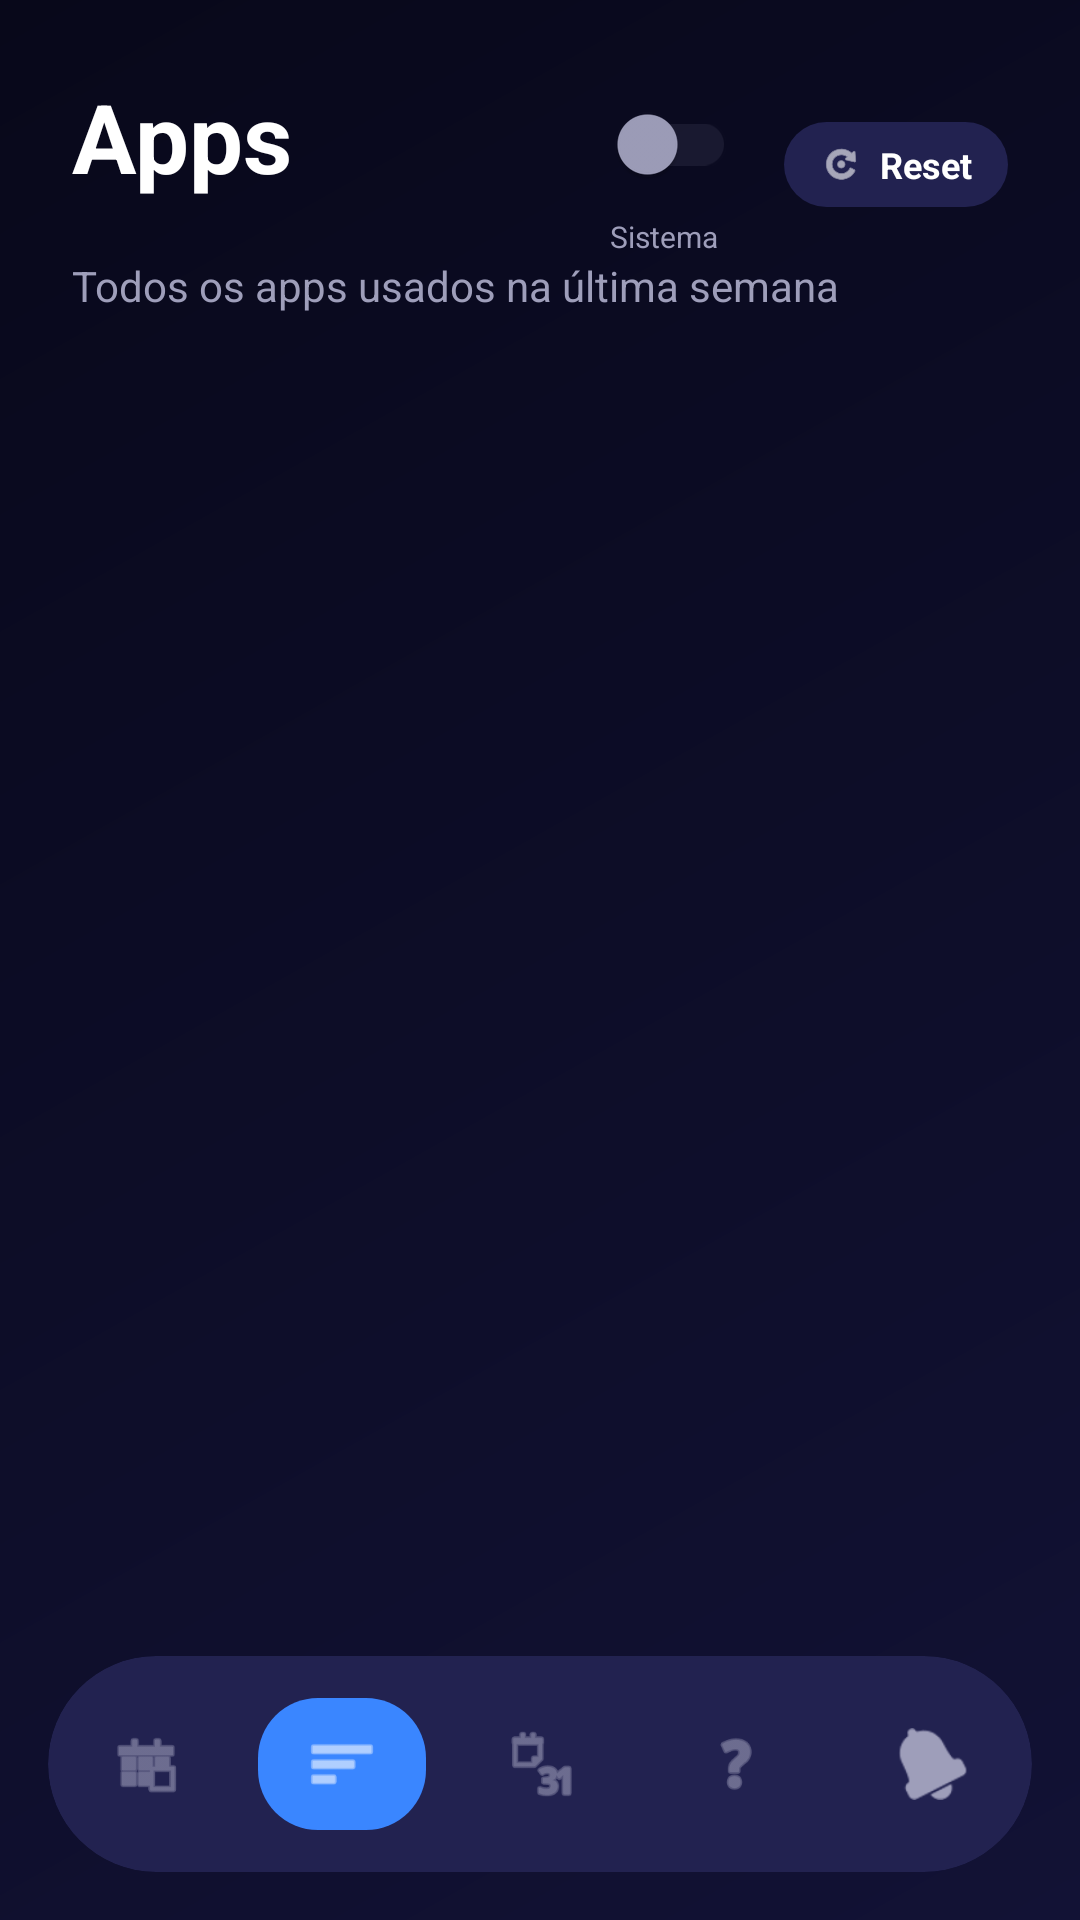

Icon bounding boxes for this 1080w x 1920h phone screenshot, format bbox=(x1, y1, x2, y2):
Alerts: bbox=(899, 1728, 967, 1800)
Tips: bbox=(721, 1738, 752, 1790)
Week: bbox=(512, 1732, 572, 1796)
